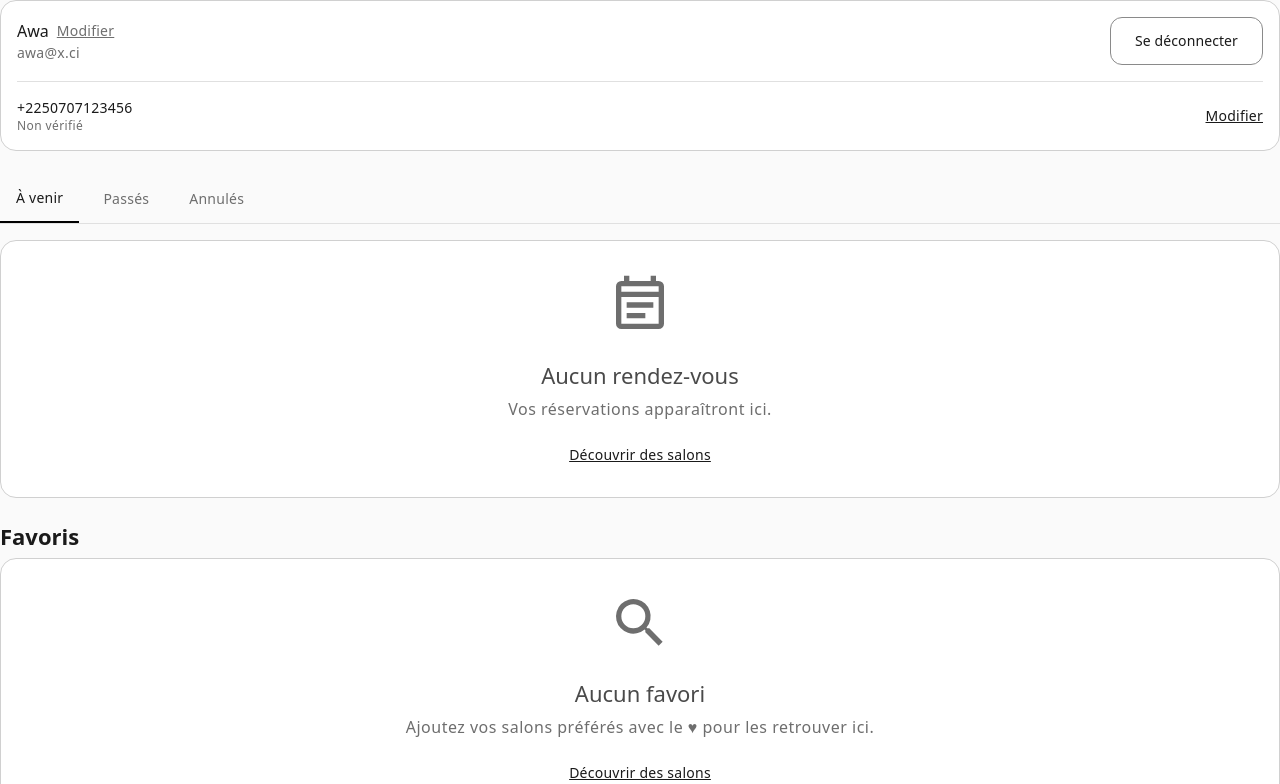
Test case: Mon compte — « Se déconnecter » (the session is httpOnly cookies only the BFF can clear) › no network: stays on the page, says so, gives the button back — never a signed-out look over a live session
Click the button "Se déconnecter" at (1186, 41), box [1110,17,1263,65]
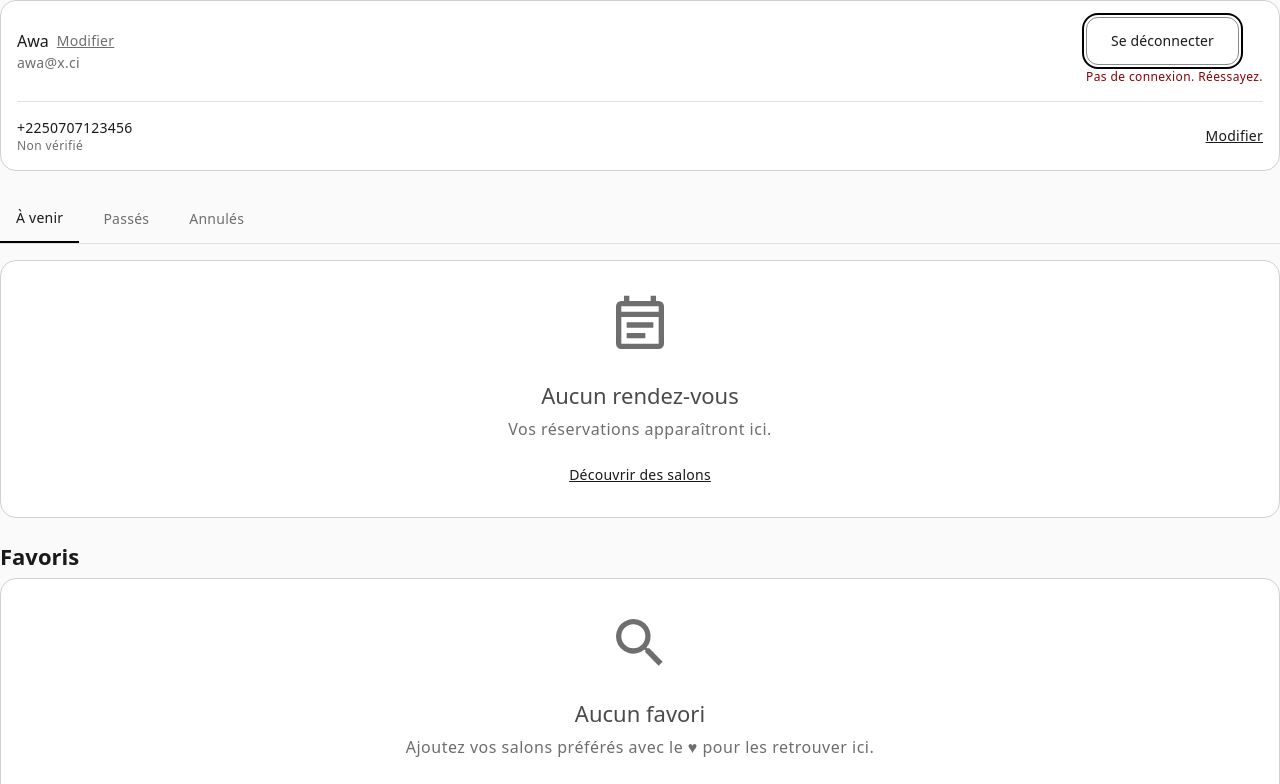
Expected: the button "Se déconnecter" is enabled, [1086,17,1239,65]
Expected: the message reads "Pas de connexion. Réessayez.", [1086,68,1263,85]
